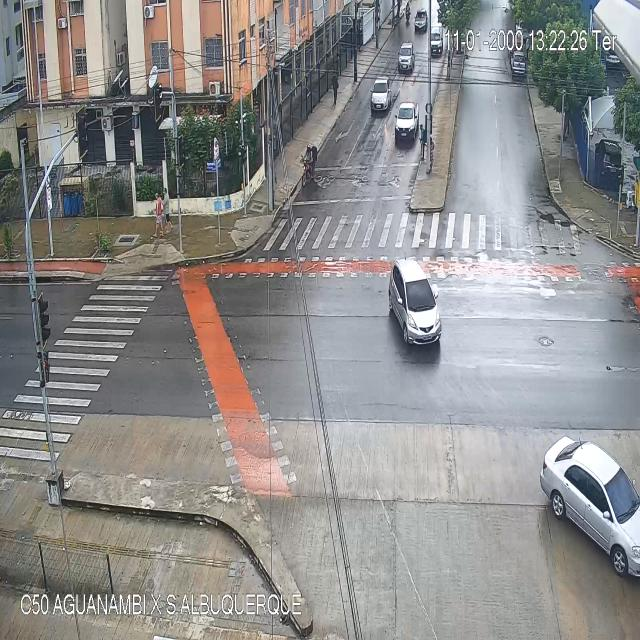Car: (541, 436, 640, 576), (390, 258, 442, 349), (394, 101, 419, 140), (371, 77, 391, 111), (398, 42, 416, 71), (429, 24, 443, 55), (510, 53, 524, 80), (415, 7, 427, 32)
Motorcycle: (300, 144, 317, 187), (406, 3, 410, 24)
